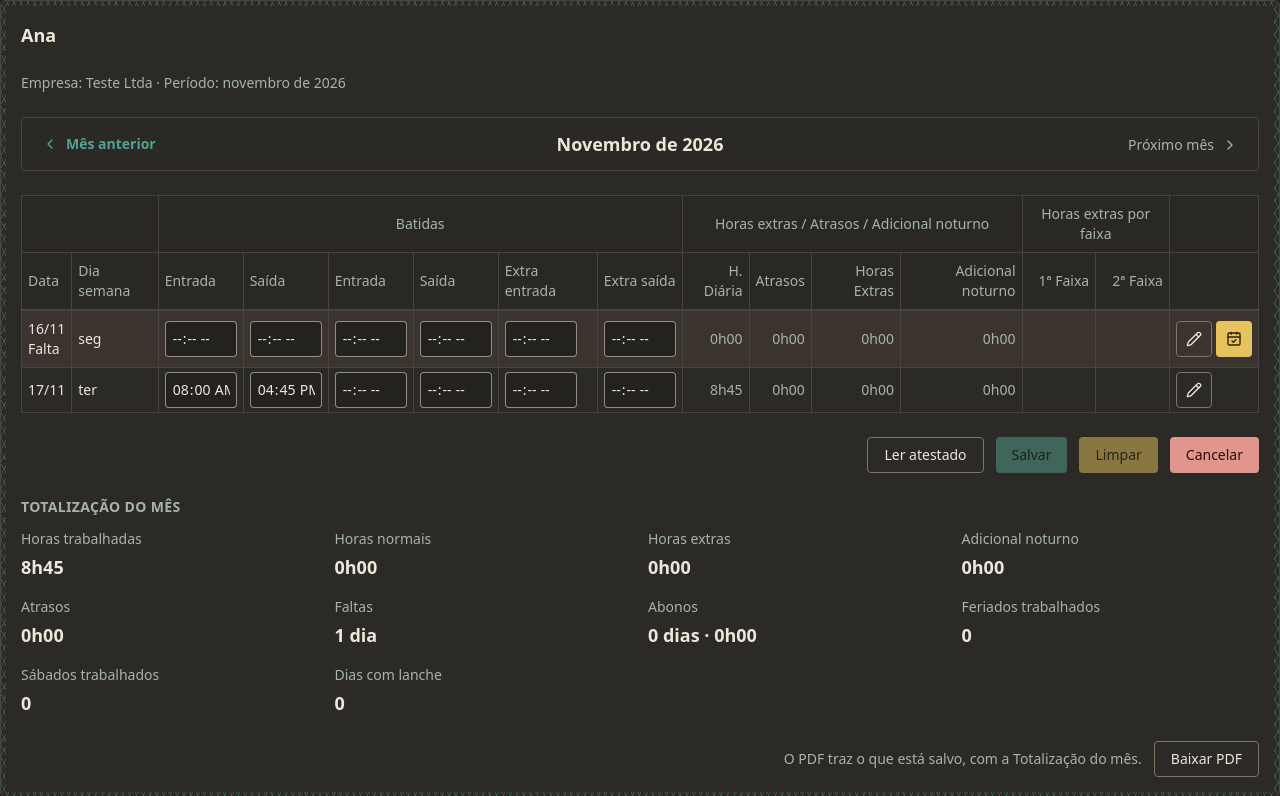
Test case: CartaoDePontoContainer › Salvar da tabela grava as linhas abertas, fica na tela e destaca a Totalização
Click the button named "Editar seg 16/11".
click(1194, 339)  # box [1176, 321, 1212, 357]
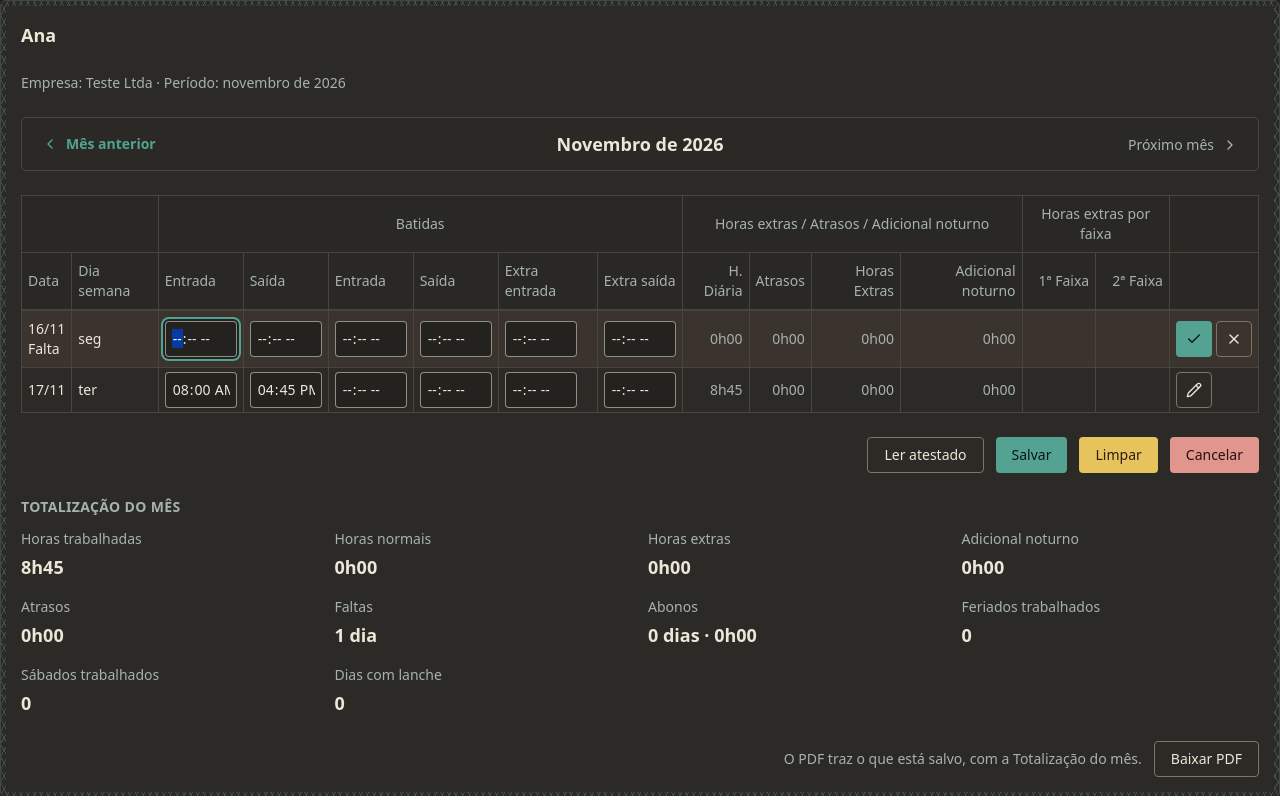
Type "08:00" into the time field named "Entrada 1 de seg 16/11".
click(201, 339); type("08:00")  # box [165, 321, 237, 357]
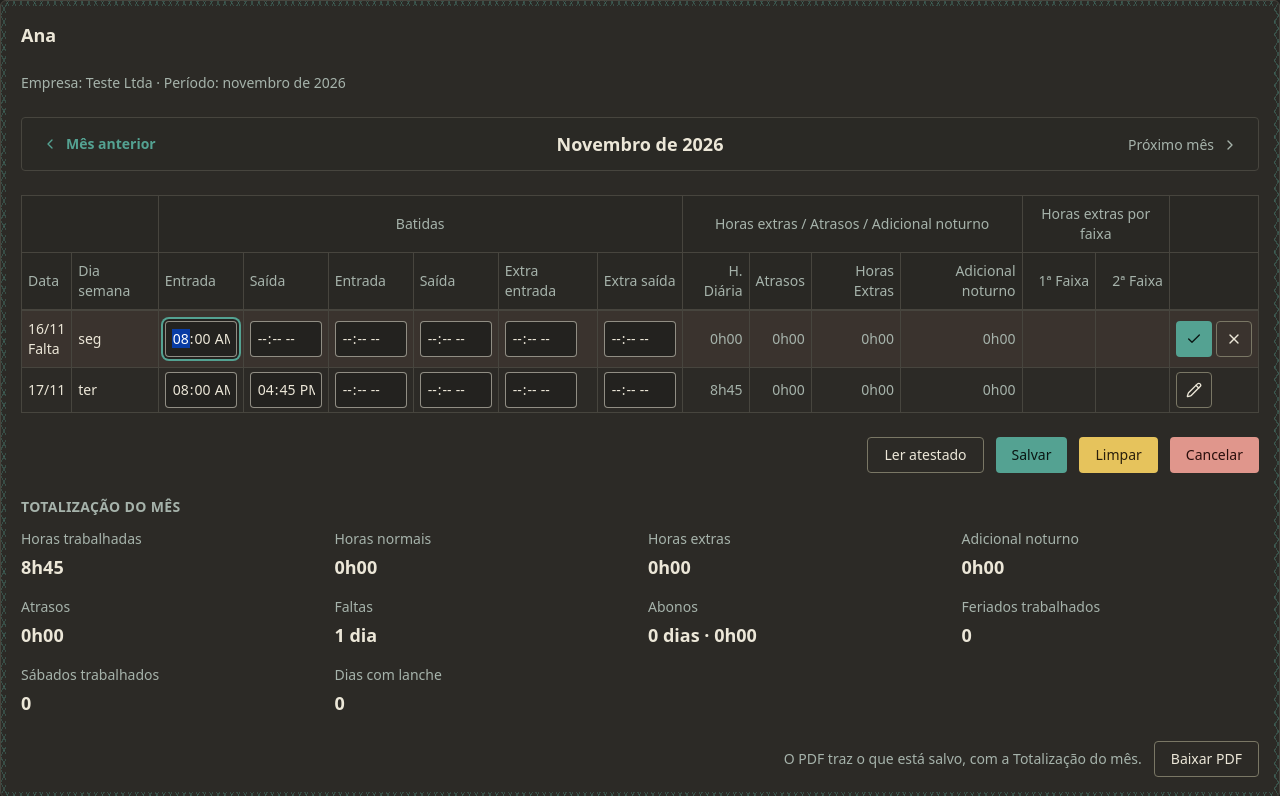
Type "12:00" into the time field named "Saída 1 de seg 16/11".
click(286, 339); type("12:00")  # box [250, 321, 322, 357]
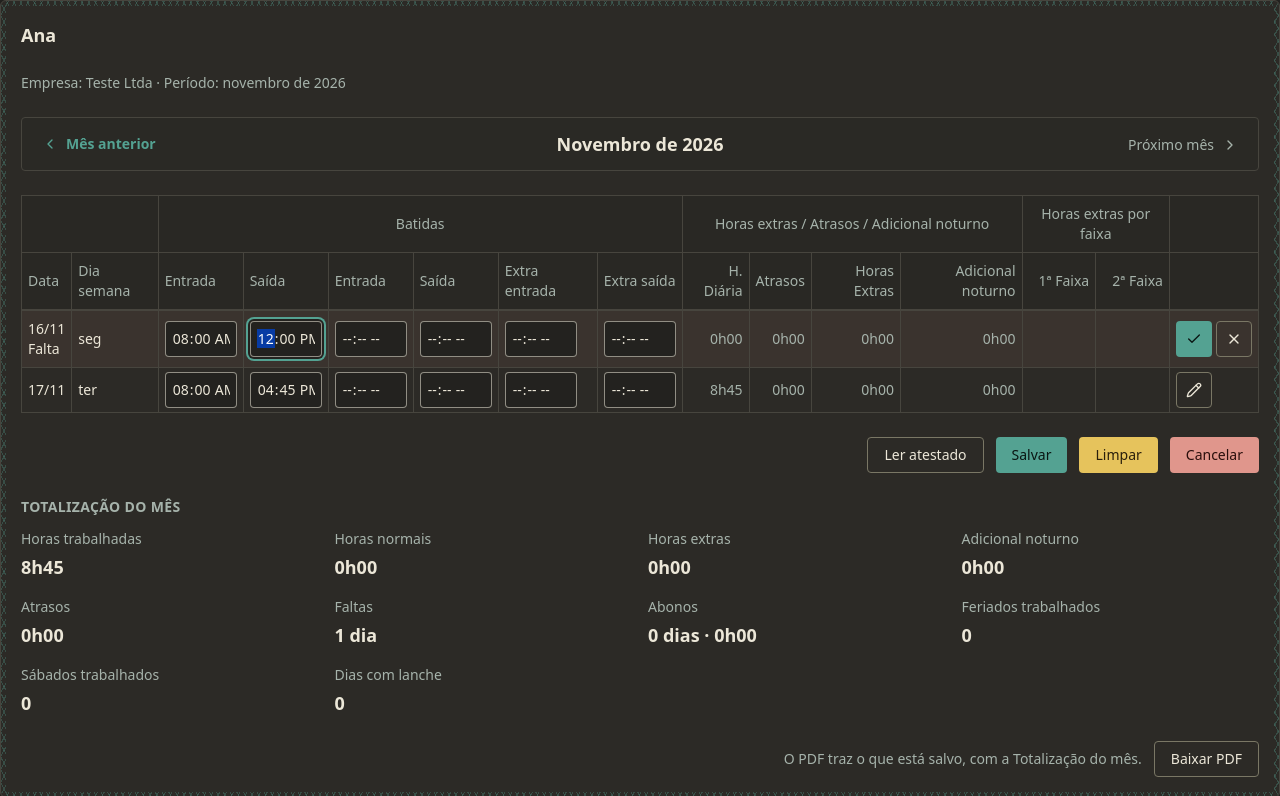
Click the button "Salvar".
click(1032, 455)  # box [996, 437, 1068, 473]
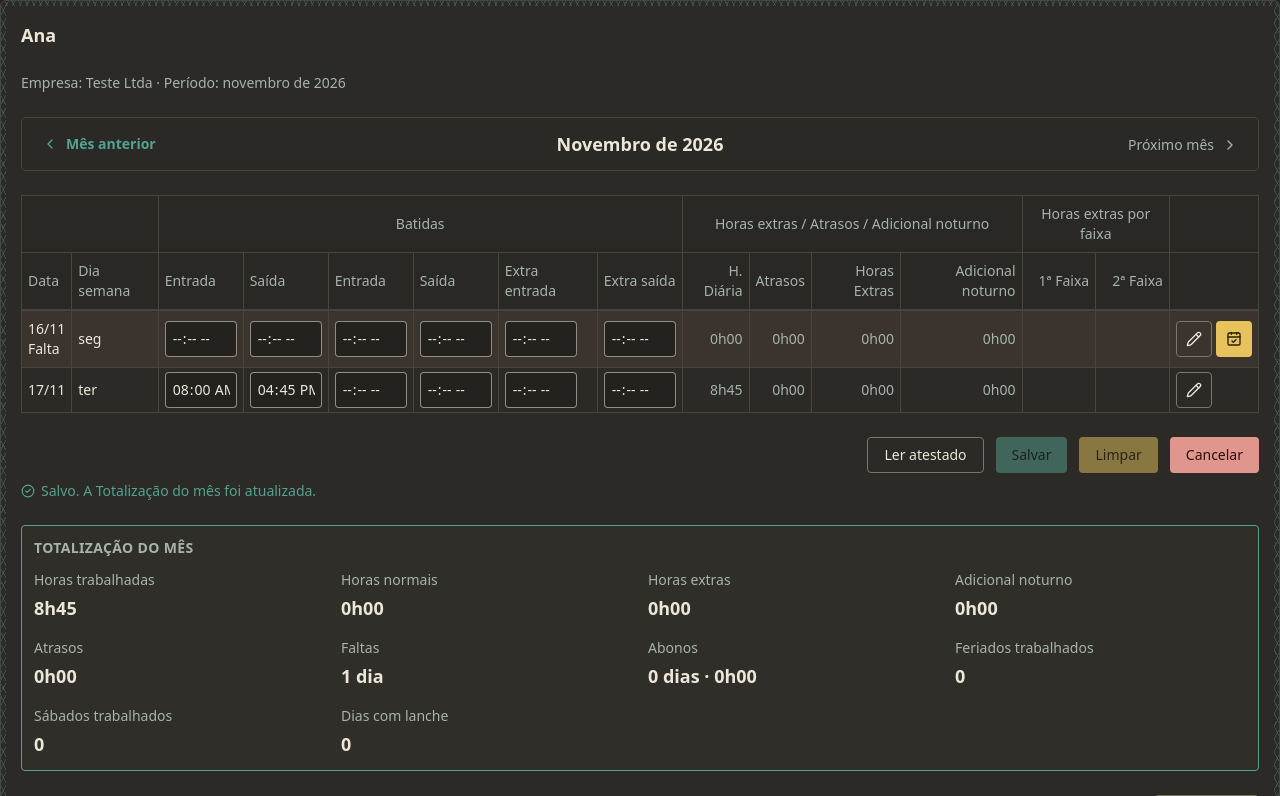
expect the text "Salvo. A Totalização do mês foi atualizada." is shown: met, box [41, 481, 316, 501]
expect the button named "Editar seg 16/11" is shown: met, box [1176, 321, 1212, 357]
